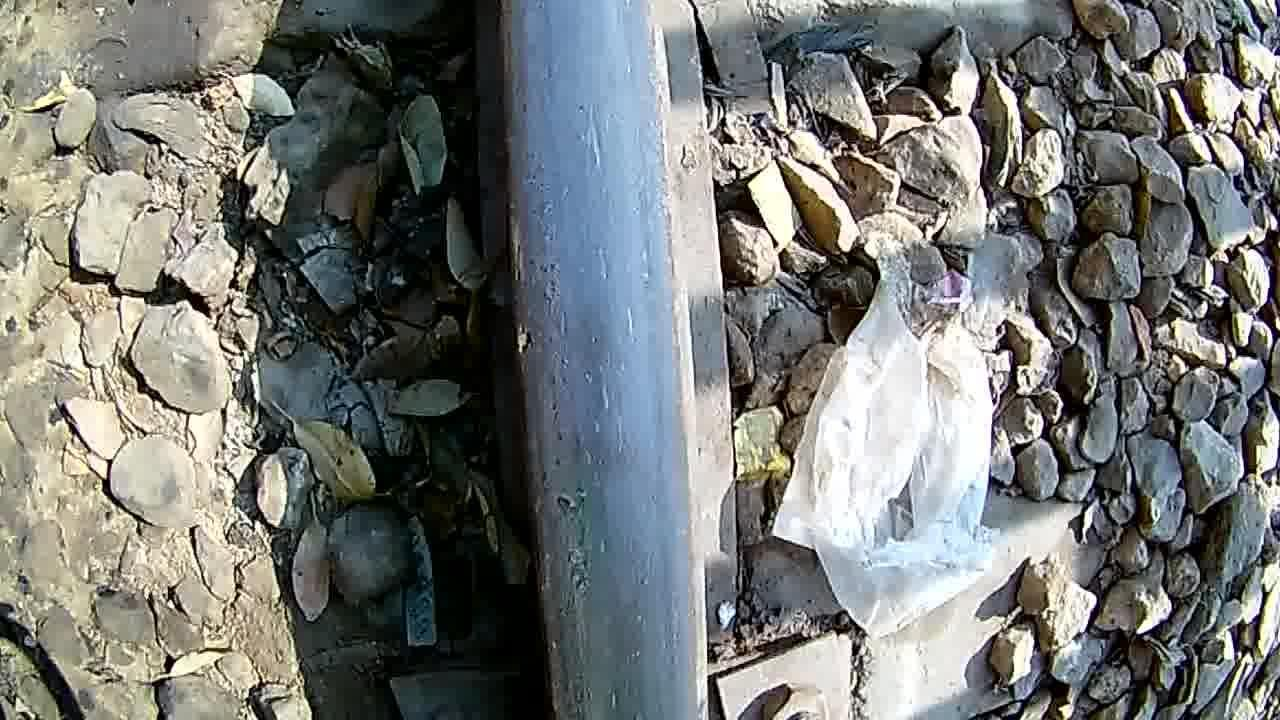crack: (494, 1, 703, 720)
